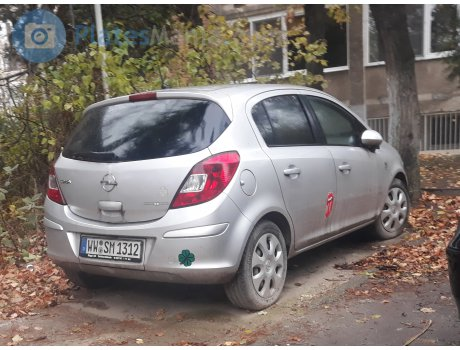License Plates: (89, 236, 138, 254)
